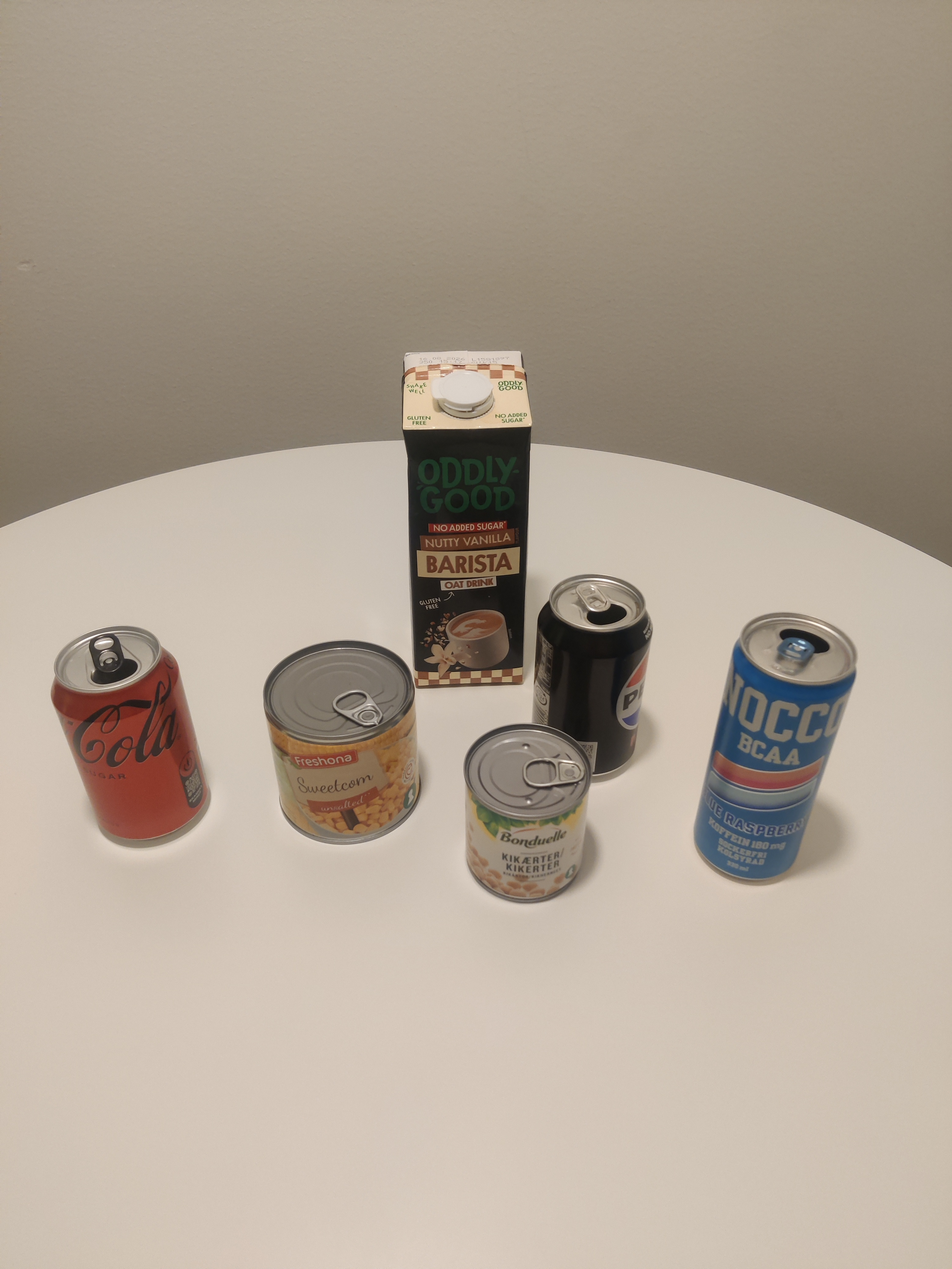Dryckeskartong: (387, 322, 562, 705)
Konservburk: (242, 613, 429, 859), (452, 709, 601, 912)
Pantburk: (683, 574, 872, 917), (26, 586, 215, 889), (532, 564, 660, 784)
